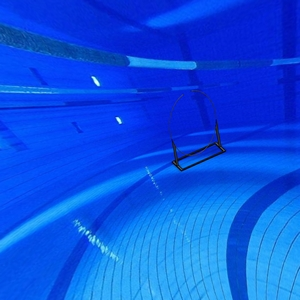circle: (167, 86, 229, 174)
